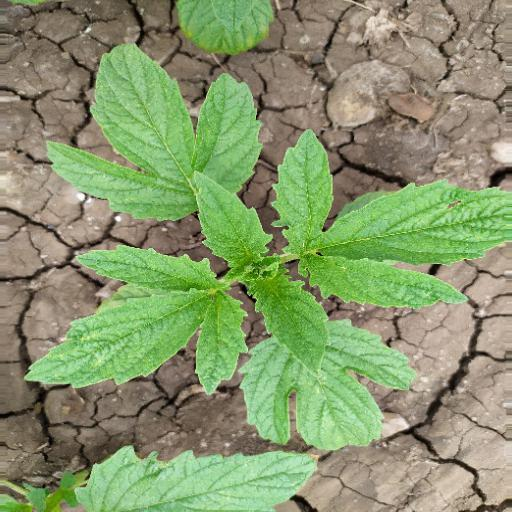crop: (26, 59, 512, 454)
